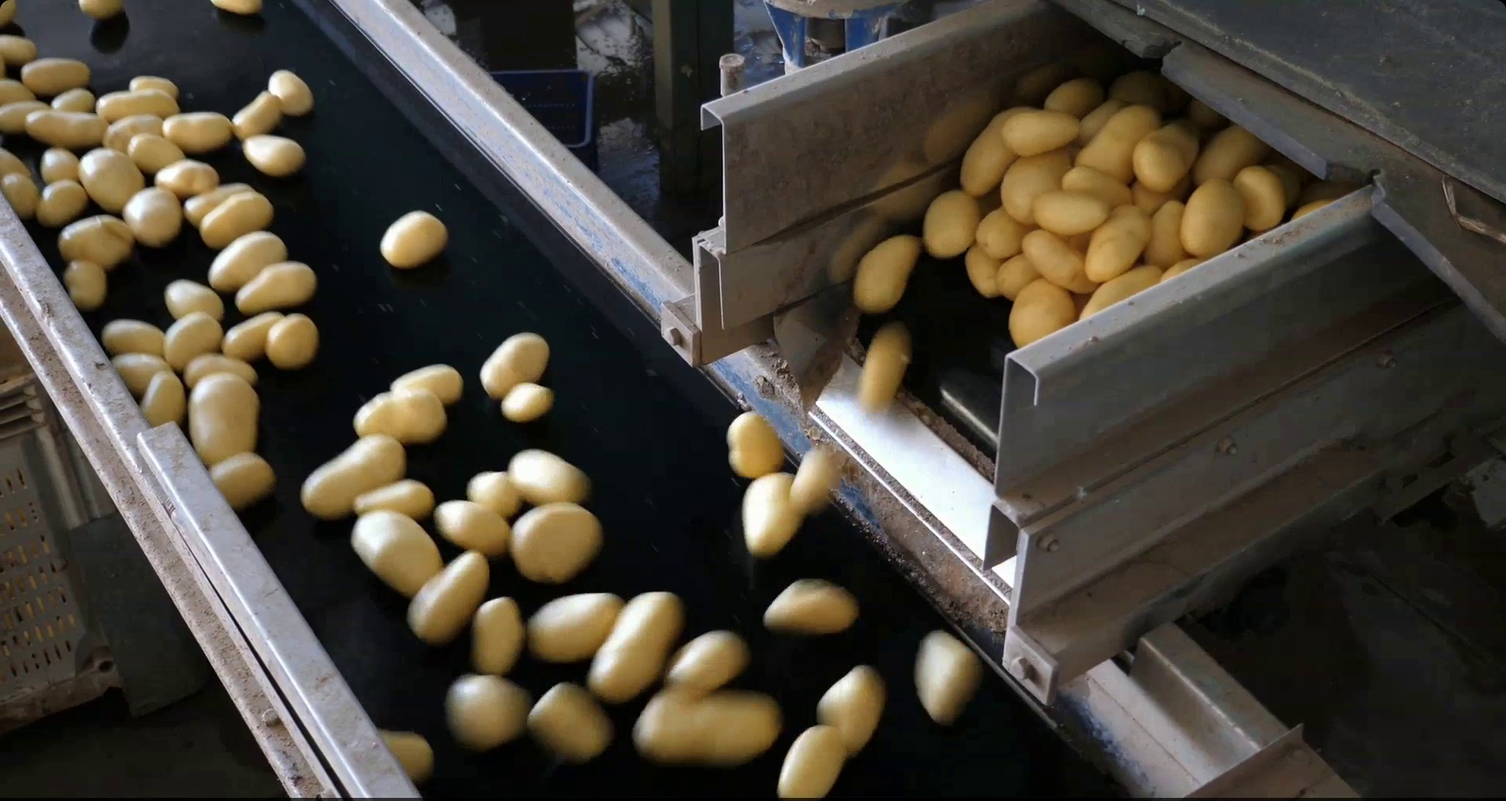potato: (626, 682, 786, 768), (582, 586, 687, 707), (295, 429, 411, 523), (348, 505, 447, 602), (504, 495, 609, 586), (402, 548, 493, 647), (955, 99, 1042, 201), (522, 586, 630, 667), (523, 679, 617, 766), (812, 658, 889, 763), (1068, 102, 1165, 183), (442, 670, 536, 752), (911, 629, 984, 731), (185, 371, 261, 468), (660, 626, 754, 702), (998, 140, 1079, 227), (757, 574, 862, 640), (852, 317, 914, 427), (736, 466, 807, 560), (771, 721, 852, 801), (1177, 172, 1250, 259), (1018, 226, 1106, 298), (1075, 262, 1173, 326), (1082, 201, 1155, 285), (851, 231, 922, 317), (1127, 119, 1209, 193), (505, 444, 598, 509), (1005, 277, 1079, 357), (347, 386, 449, 444), (477, 326, 552, 404), (194, 189, 281, 253), (1188, 121, 1269, 189), (229, 258, 321, 317), (431, 495, 514, 560), (468, 593, 527, 684), (204, 228, 289, 291), (75, 144, 151, 214), (53, 210, 137, 273), (376, 206, 452, 273), (722, 405, 788, 481), (788, 438, 849, 520), (206, 448, 283, 512), (922, 186, 983, 262), (372, 717, 441, 784), (121, 184, 186, 251), (1231, 162, 1290, 235), (160, 307, 224, 373), (998, 108, 1085, 155), (972, 203, 1037, 265), (386, 359, 468, 408), (20, 107, 113, 150), (1054, 160, 1137, 208), (351, 477, 441, 521), (1031, 190, 1114, 237), (219, 309, 289, 363), (1140, 194, 1190, 269), (181, 180, 259, 228), (262, 310, 321, 372), (159, 109, 236, 156), (178, 350, 262, 393), (108, 350, 180, 397), (136, 368, 188, 433), (152, 154, 222, 202), (1125, 169, 1195, 217), (91, 88, 184, 124), (239, 132, 310, 179), (17, 54, 96, 96), (125, 128, 191, 178), (464, 466, 527, 518), (97, 315, 169, 360), (162, 276, 228, 325), (1074, 96, 1138, 146), (229, 87, 285, 143), (1104, 67, 1174, 111), (994, 248, 1048, 304), (34, 175, 89, 228), (1038, 77, 1109, 118), (962, 239, 1006, 303), (60, 256, 110, 312), (267, 64, 317, 119), (100, 111, 166, 152), (500, 381, 555, 422), (1, 170, 43, 223), (1285, 189, 1344, 225), (37, 143, 85, 186), (1, 98, 54, 136), (1159, 255, 1211, 289), (1, 143, 35, 189), (126, 73, 180, 99), (49, 85, 101, 112), (1, 30, 41, 65), (1183, 93, 1226, 124), (2, 74, 37, 107), (73, 2, 128, 19), (209, 2, 268, 14), (2, 2, 14, 27)
